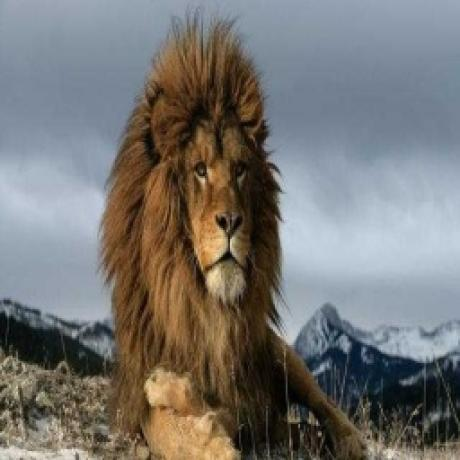Lion: (102, 9, 366, 458)
